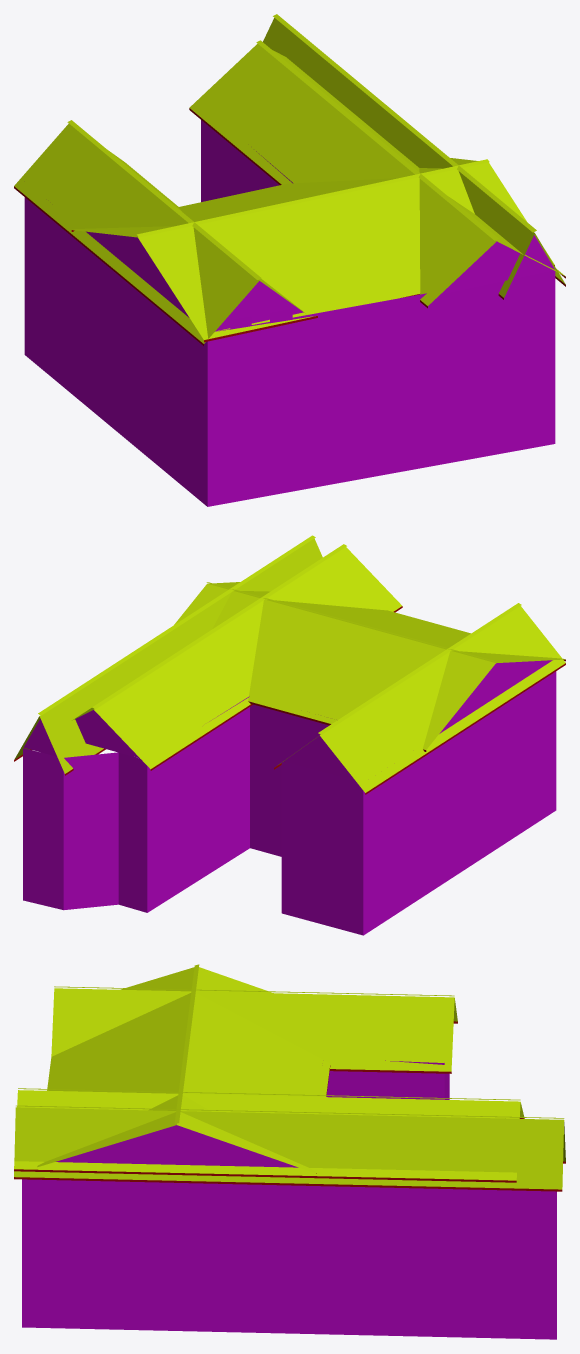
Rendered from bgj_389.glb.
The picture shows the model from 3 angles, top to bottom: view 1: azimuth 30°, elevation 25°; view 2: azimuth 150°, elevation 25°; view 3: azimuth 270°, elevation 25°; orthographic projection. The views are drawn at different scales.
Visible parts, largest first — view 1: bgj_389; view 2: bgj_389; view 3: bgj_389.
Boxes of the visible parts, box(x1,y1,x2,y2) form: bgj_389: box(14, 14, 565, 506); bgj_389: box(14, 535, 565, 935); bgj_389: box(14, 964, 565, 1339).
Size of the model in its own units: 21.28 by 12.28 by 29.09.
